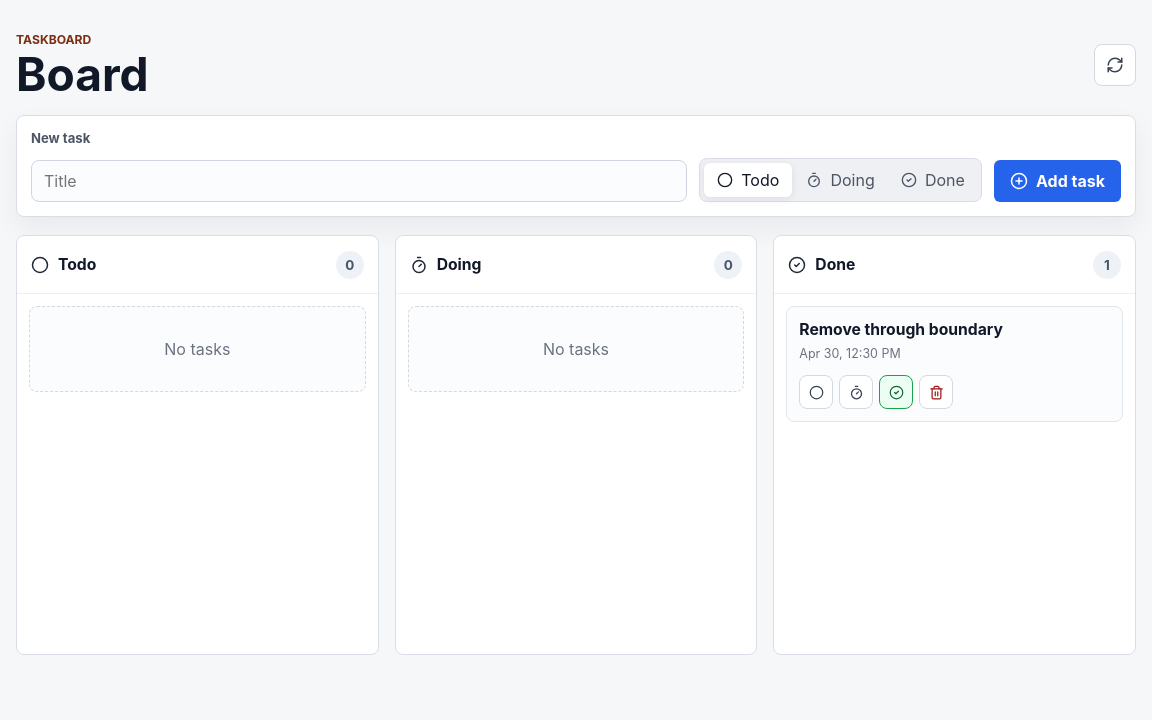
Test: Client UI workflow › sends task deletes through the Task_API adapter and refreshes the board
Check: the heading "Remove through boundary" is shown, box [799,320,1003,339]
Click the button named "Delete Remove through boundary": (936, 392) [919,375,953,409]
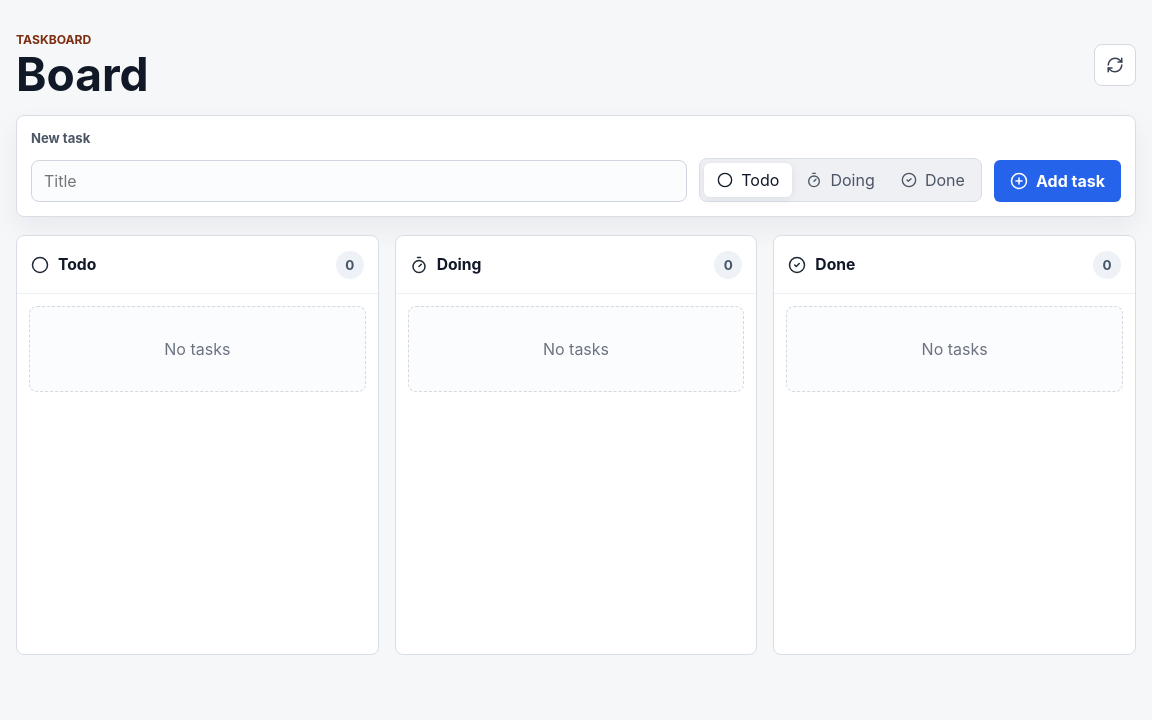
Check: the heading "Remove through boundary" is gone
Check: the text "No tasks" is shown 3 times, box [29,306,366,392]; [408,306,744,392]; [786,306,1123,392]
